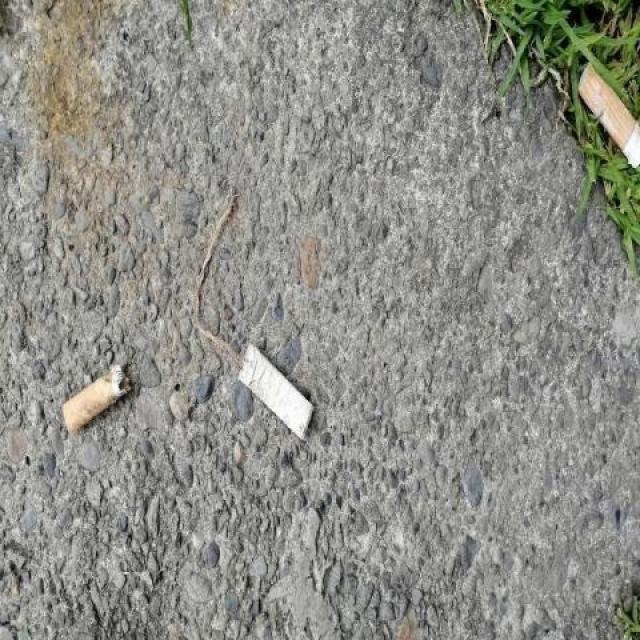non-organic waste: (232, 339, 320, 445), (572, 59, 640, 178), (60, 357, 140, 440)
